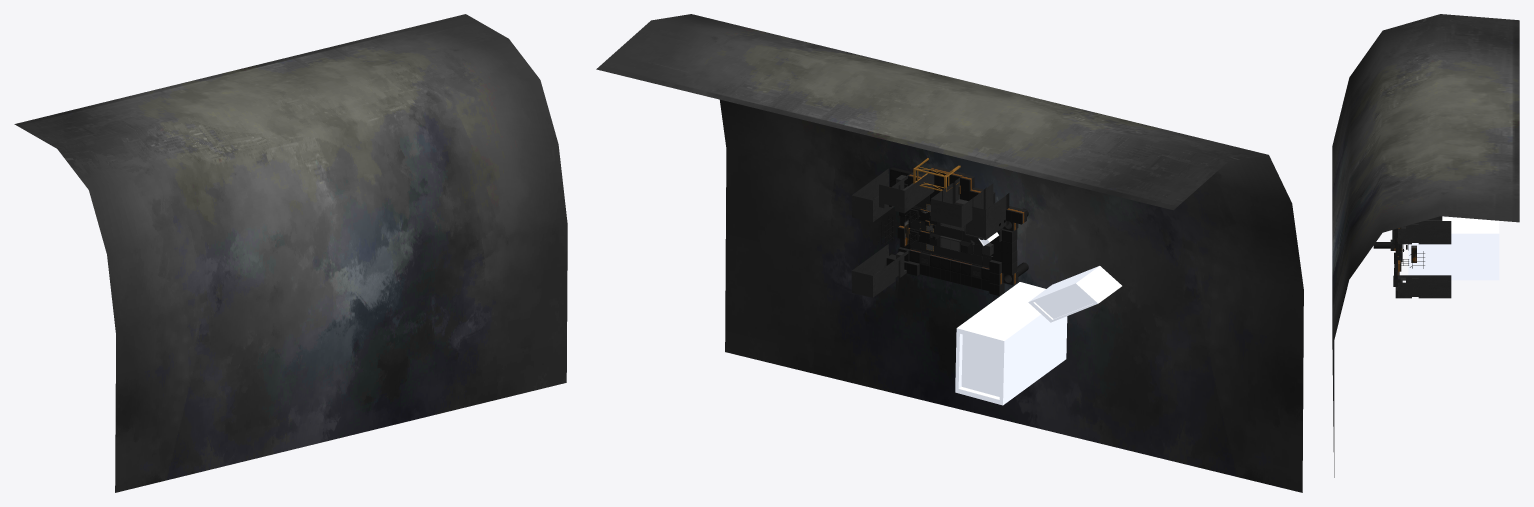
File: BATTLE.fbx
3 views of the same model, side by side, from view 1: azimuth 30°, elevation 25°; view 2: azimuth 150°, elevation 25°; view 3: azimuth 270°, elevation 25° (orthographic). The views are drawn at different scales.
Visible parts, largest first — view 1: BG_Qcity; view 2: BG_Qcity, Shadow (4), Shadow (3), S_Outworld_prop_0374, S_Outworld_prop_015, S_Outworld_prop_0109, S_Outworld_prop_0682, S_Outworld_prop_00, S_Outworld_prop_0681; view 3: BG_Qcity, Shadow (4), S_Outworld_prop_00, S_Outworld_prop_0682, S_Outworld_prop_0681, S_Outworld_prop_01.
Boxes of the visible parts, <box> form: BG_Qcity: <box>14,14,567,492</box>; BG_Qcity: <box>596,14,1303,492</box>; Shadow (4): <box>955,282,1067,405</box>; Shadow (3): <box>1028,266,1121,322</box>; S_Outworld_prop_0374: <box>931,176,993,227</box>; S_Outworld_prop_015: <box>879,169,934,213</box>; S_Outworld_prop_0109: <box>964,187,1009,239</box>; S_Outworld_prop_0682: <box>851,257,891,297</box>; S_Outworld_prop_00: <box>851,182,891,222</box>; S_Outworld_prop_0681: <box>870,244,909,283</box>; BG_Qcity: <box>1332,14,1519,477</box>; Shadow (4): <box>1408,217,1499,280</box>; S_Outworld_prop_00: <box>1424,221,1451,244</box>; S_Outworld_prop_0682: <box>1424,275,1451,298</box>; S_Outworld_prop_0681: <box>1398,275,1424,298</box>; S_Outworld_prop_01: <box>1398,221,1424,244</box>.
Size of the model in its own units: 0.5613 by 0.3583 by 0.2194.
